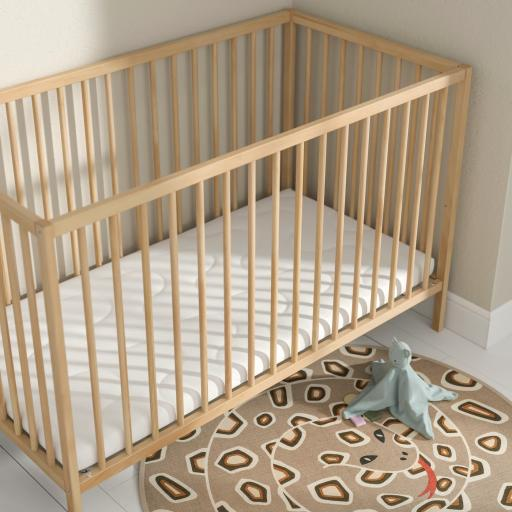crib: (0, 10, 471, 511)
